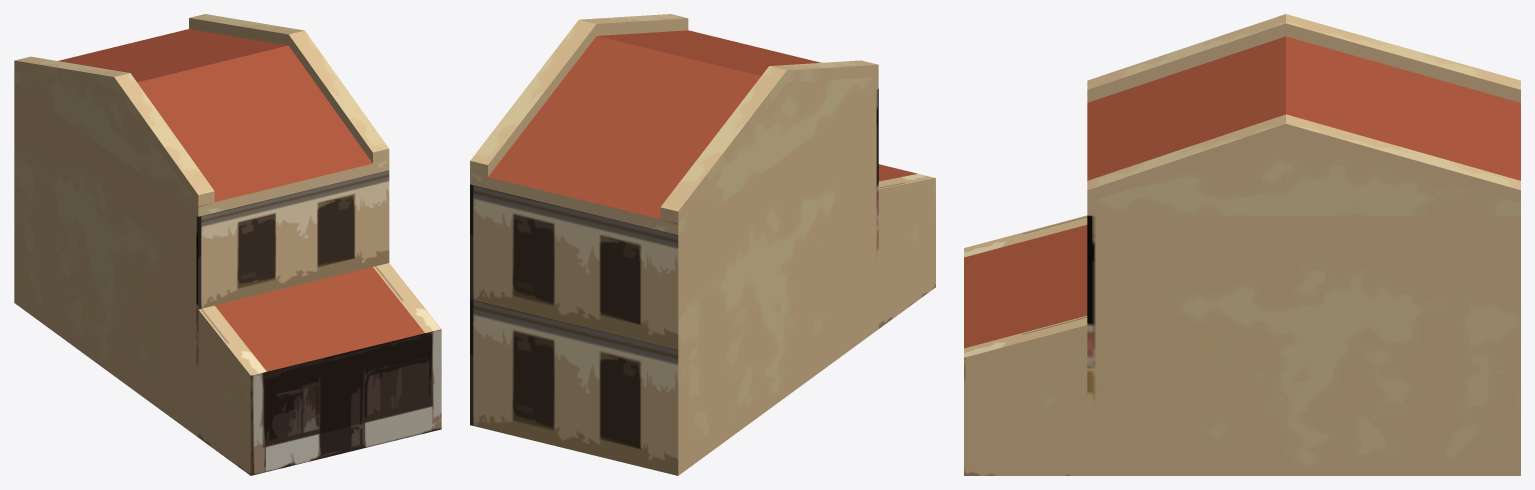
Rendered from SM_Building_Large_04.fbx.
The picture shows the model from 3 angles, left to right: view 1: azimuth 30°, elevation 25°; view 2: azimuth 150°, elevation 25°; view 3: azimuth 270°, elevation 25°; orthographic projection. The views are drawn at different scales.
Parts seen in each view (by area): view 1: SM_Building_Large_04_LOD0; view 2: SM_Building_Large_04_LOD0; view 3: SM_Building_Large_04_LOD0.
Part boxes in pixels (<box>): SM_Building_Large_04_LOD0: <box>14,14,441,475</box>; SM_Building_Large_04_LOD0: <box>470,14,935,475</box>; SM_Building_Large_04_LOD0: <box>964,14,1520,475</box>.
Size of what is drawn, in the model's own units: 5.97 by 8.95 by 12.82.
